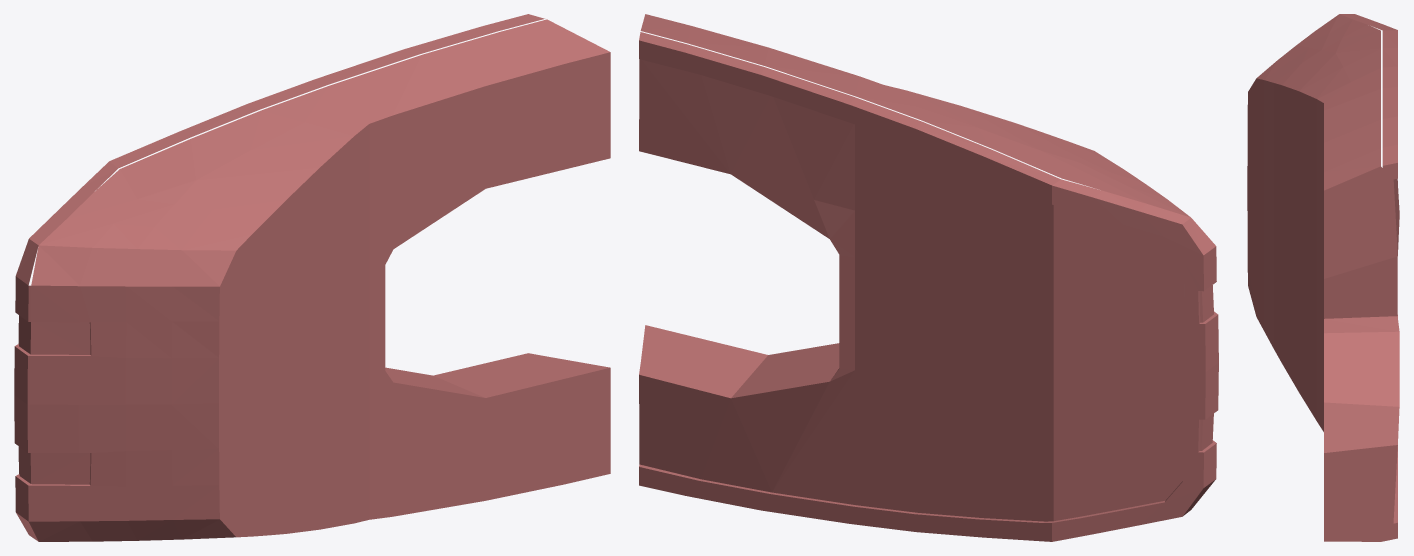
The model's file is ink__rx78_Null_037_link__rx78_Null_038_link__rx78_Null_039_link__rx78_Null_041_link__rx78_object_034-lib.dae_3__bbd31a41.glb.
The picture shows the model from 3 angles, left to right: view 1: azimuth 30°, elevation 25°; view 2: azimuth 150°, elevation 25°; view 3: azimuth 270°, elevation 25°; orthographic projection. The views are drawn at different scales.
Parts seen in each view (by area): view 1: world; view 2: world; view 3: world.
Part boxes in pixels (x1,y1,x2,y2): world: [14, 14, 610, 541]; world: [639, 14, 1218, 541]; world: [1247, 14, 1399, 541].
Size of the model in its own units: 3.27 by 2.42 by 0.8881.
